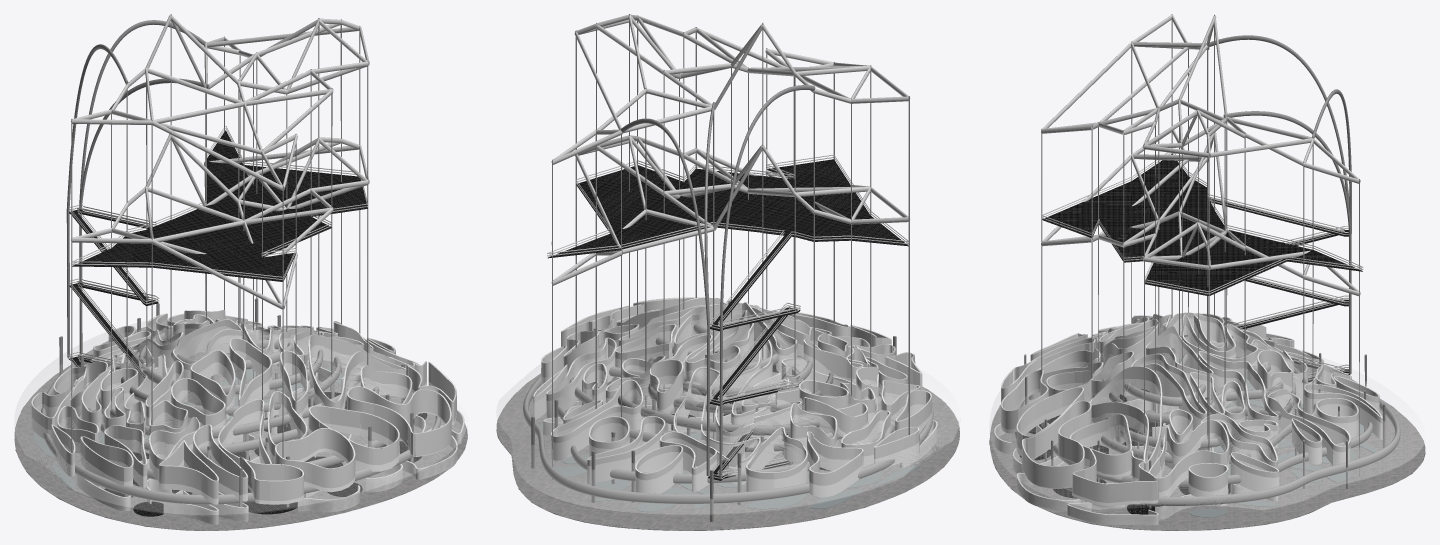
3 views of the same model, side by side, from view 1: azimuth 30°, elevation 25°; view 2: azimuth 150°, elevation 25°; view 3: azimuth 270°, elevation 25° (orthographic). The views are drawn at different scales.
Parts seen in each view (by area): view 1: Group, Group 1, METAL-2, ROOF FLOOR, VeganCell+Park 100k _2022.09 (EN SON OPTIMIZE), WALLS, Merged Objects 5, RAMPP, Merged Objects 6; view 2: Group 1, Group, METAL-2, VeganCell+Park 100k _2022.09 (EN SON OPTIMIZE), ROOF FLOOR, Merged Objects 6, RAMPP, WALLS; view 3: Group, Group 1, METAL-2, ROOF FLOOR, VeganCell+Park 100k _2022.09 (EN SON OPTIMIZE), WALLS, Merged Objects 6, RAMPP, Merged Objects 5.
Part boxes in pixels (x1,y1,x2,y2): Group: (31,310,456,504); Group 1: (14,14,467,515); METAL-2: (67,15,369,440); ROOF FLOOR: (72,130,367,281); VeganCell+Park 100k _2022.09 (EN SON OPTIMIZE): (14,352,467,530); WALLS: (76,358,464,524); Merged Objects 5: (104,392,427,516); RAMPP: (69,209,158,377); Merged Objects 6: (33,354,343,489); Group 1: (496,14,960,522); Group: (533,297,931,497); METAL-2: (547,14,910,479); VeganCell+Park 100k _2022.09 (EN SON OPTIMIZE): (496,352,959,530); ROOF FLOOR: (548,159,908,258); Merged Objects 6: (539,417,919,511); RAMPP: (708,236,800,480); WALLS: (543,372,937,467); Group: (1001,312,1382,506); Group 1: (989,14,1425,510); METAL-2: (1041,15,1363,403); ROOF FLOOR: (1042,154,1362,295); VeganCell+Park 100k _2022.09 (EN SON OPTIMIZE): (989,352,1425,530); WALLS: (994,362,1278,525); Merged Objects 6: (1176,358,1378,517); RAMPP: (1210,198,1350,382); Merged Objects 5: (1019,388,1230,514).
Size of the model in its own units: 58.15 by 60.43 by 59.11.
Materials: 8 (4 with a texture image).
